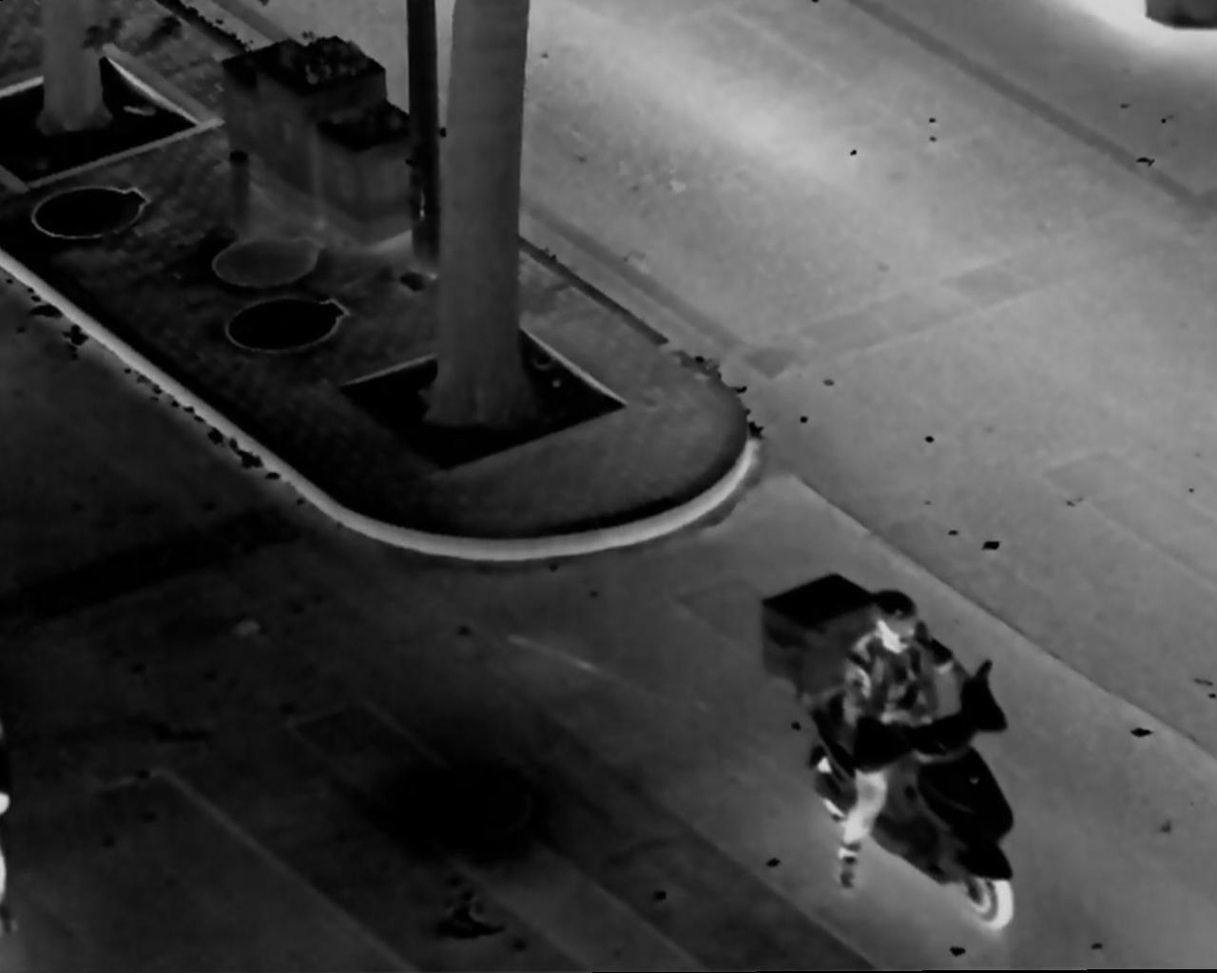person: (838, 591, 975, 901)
